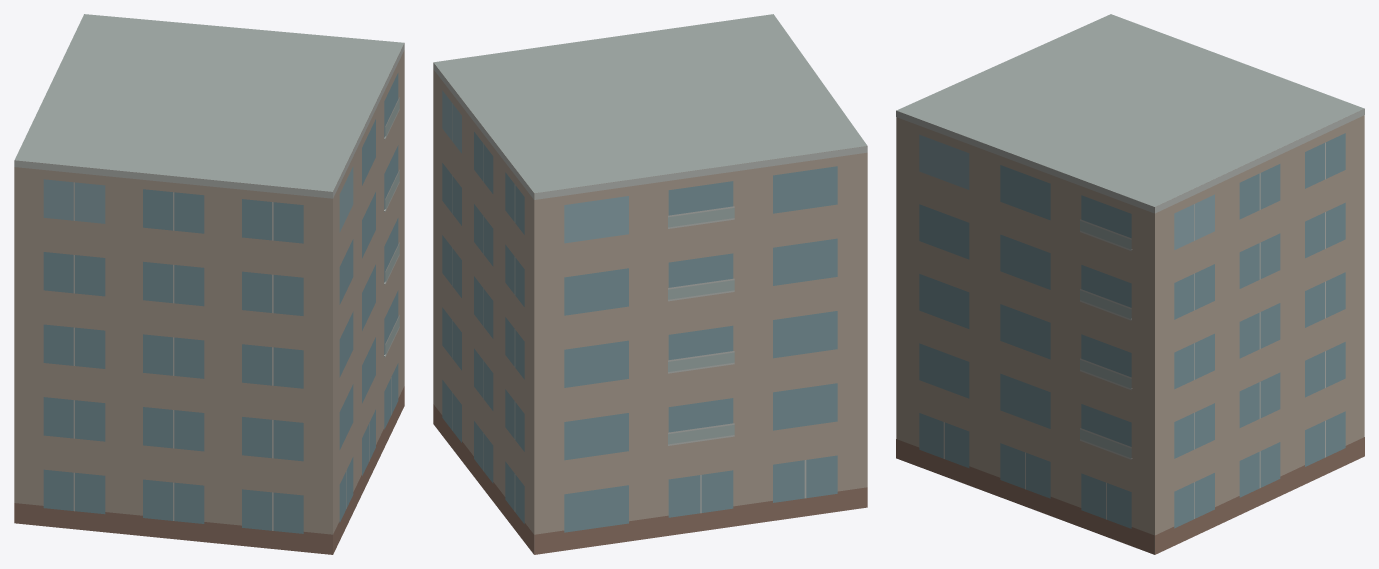
The model's file is survey-upis-32965924.glb.
3 renders of one model, left to right at view 1: azimuth 30°, elevation 25°; view 2: azimuth 150°, elevation 25°; view 3: azimuth 270°, elevation 25°, orthographic. The views are drawn at different scales.
Visible parts, largest first — view 1: survey-upis-32965924.tmp; view 2: survey-upis-32965924.tmp; view 3: survey-upis-32965924.tmp.
Part boxes in pixels (x1,y1,x2,y2): survey-upis-32965924.tmp: [14, 14, 404, 554]; survey-upis-32965924.tmp: [433, 14, 867, 554]; survey-upis-32965924.tmp: [896, 14, 1364, 554].
Size of the model in its own units: 15.61 by 13.1 by 16.
